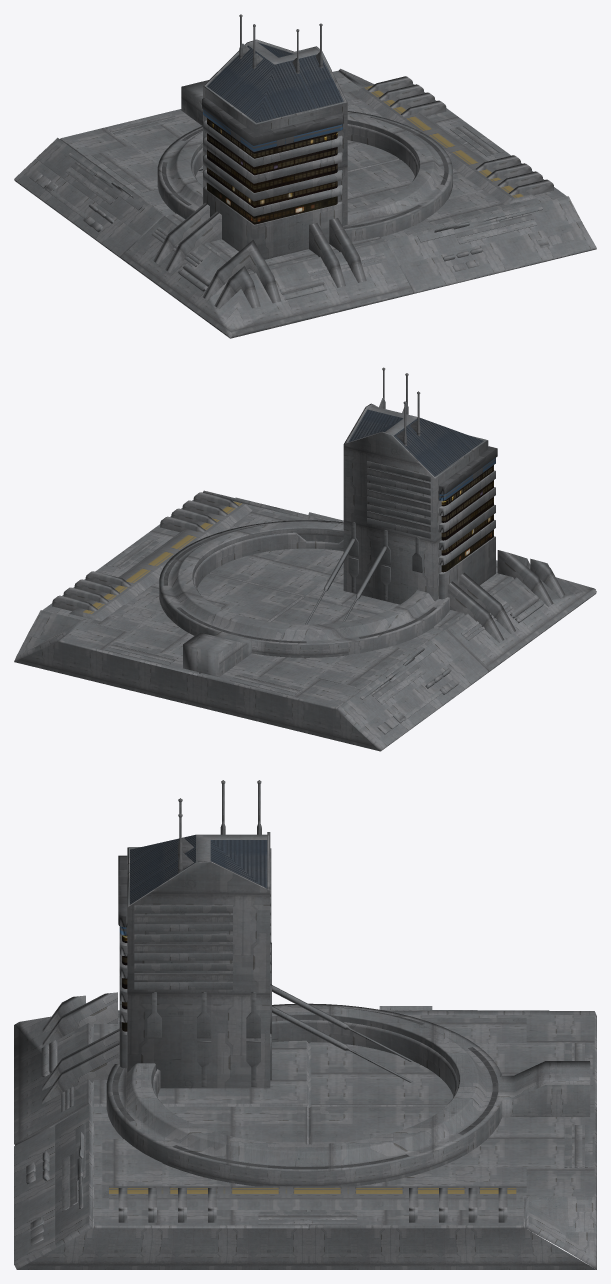
Rendered from CityBlock007.fbx.
3 views of the same model, one above another, from view 1: azimuth 30°, elevation 25°; view 2: azimuth 150°, elevation 25°; view 3: azimuth 270°, elevation 25° (orthographic). The views are drawn at different scales.
Parts seen in each view (by area): view 1: SMCGBlock47_2520.Shape; view 2: SMCGBlock47_2520.Shape; view 3: SMCGBlock47_2520.Shape.
Boxes of the visible parts, bbox=[...] form: SMCGBlock47_2520.Shape: bbox=[14, 14, 596, 338]; SMCGBlock47_2520.Shape: bbox=[14, 367, 596, 751]; SMCGBlock47_2520.Shape: bbox=[14, 780, 596, 1269].
Bounding box in the file's own units: 724 × 439 × 737.
